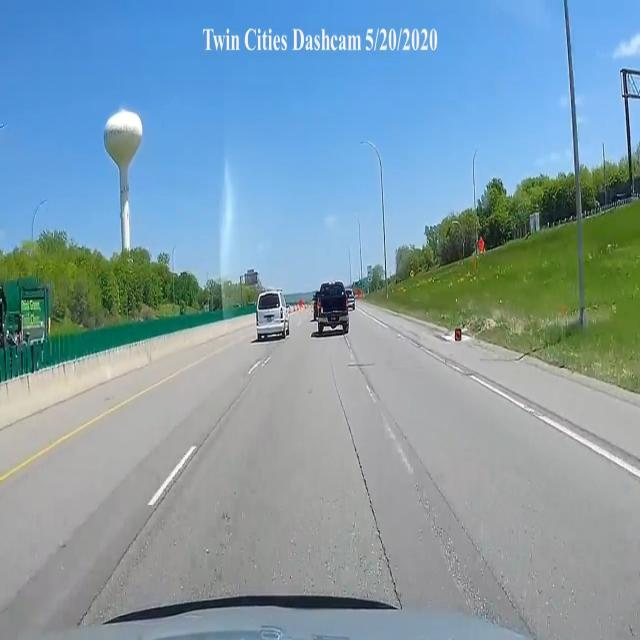Traffic Cone: (454, 323, 464, 342)
